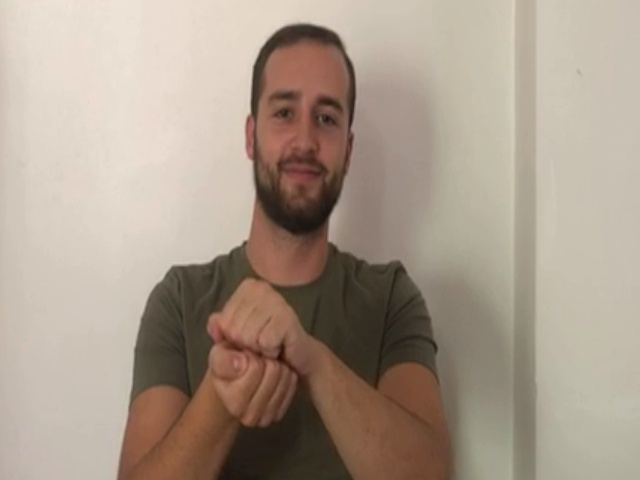Istorija: (202, 275, 308, 430)
